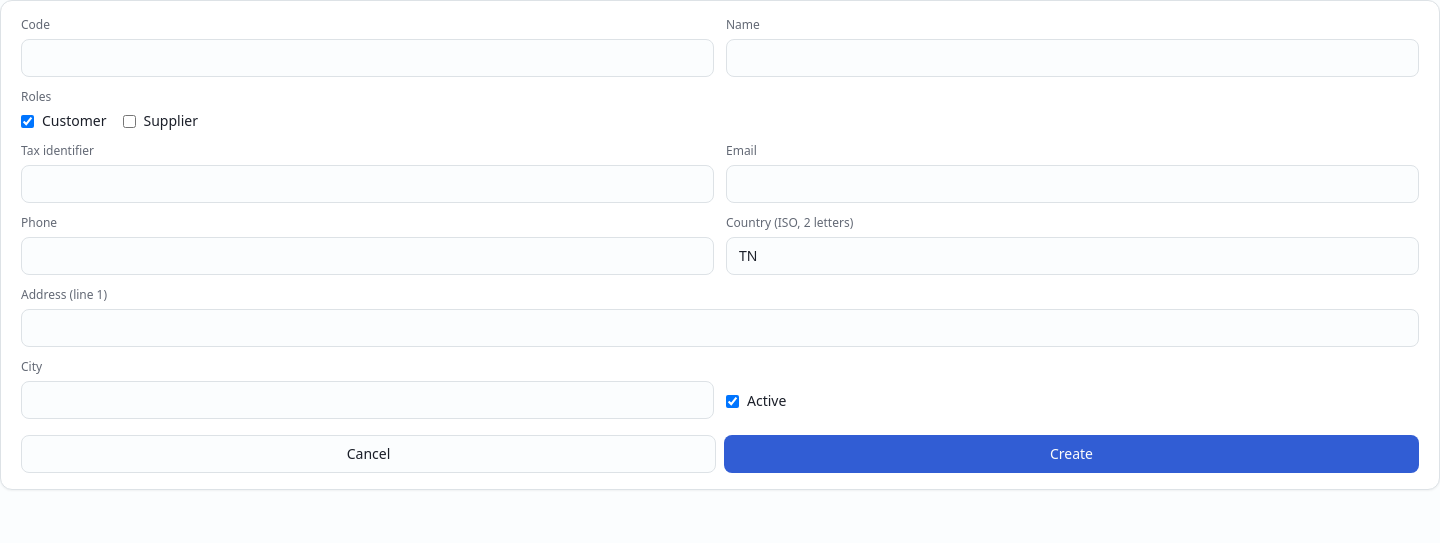
Test: PartyForm › keeps the draft and shows the refusal on conflict
This screenshot has width=1440, height=543.
Type "ACME" into the field labelled "Code" at (368, 58), box [21,39,714,77]
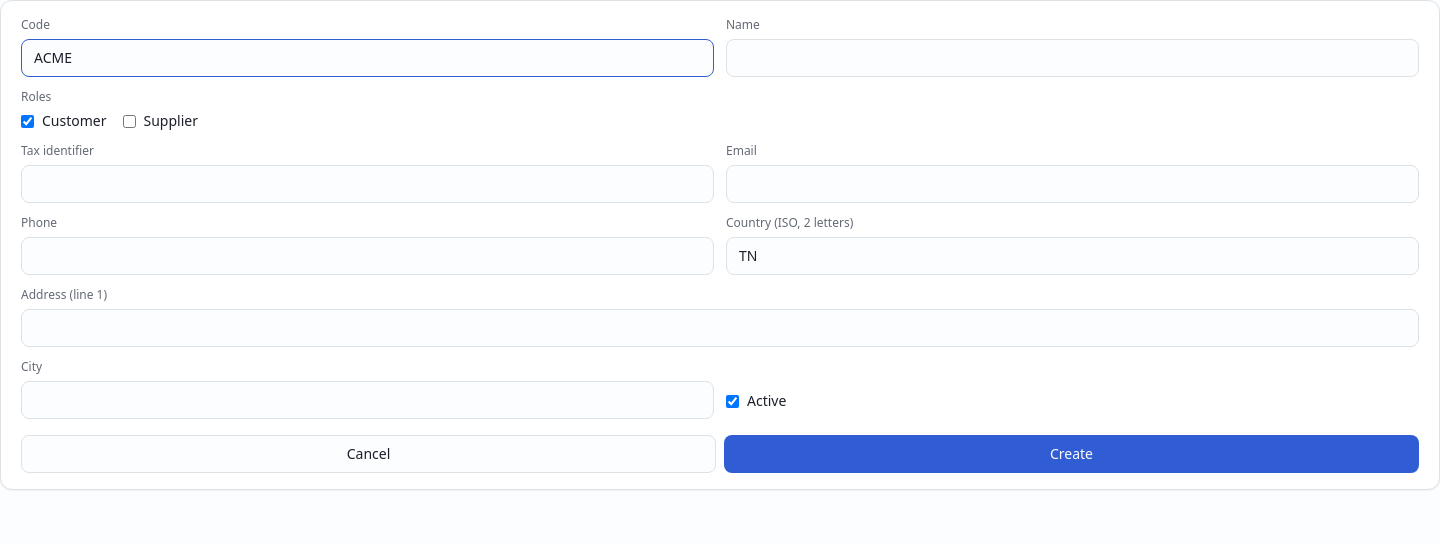
Type "Acme SARL" into the field labelled "Name" at (1072, 58), box [726,39,1419,77]
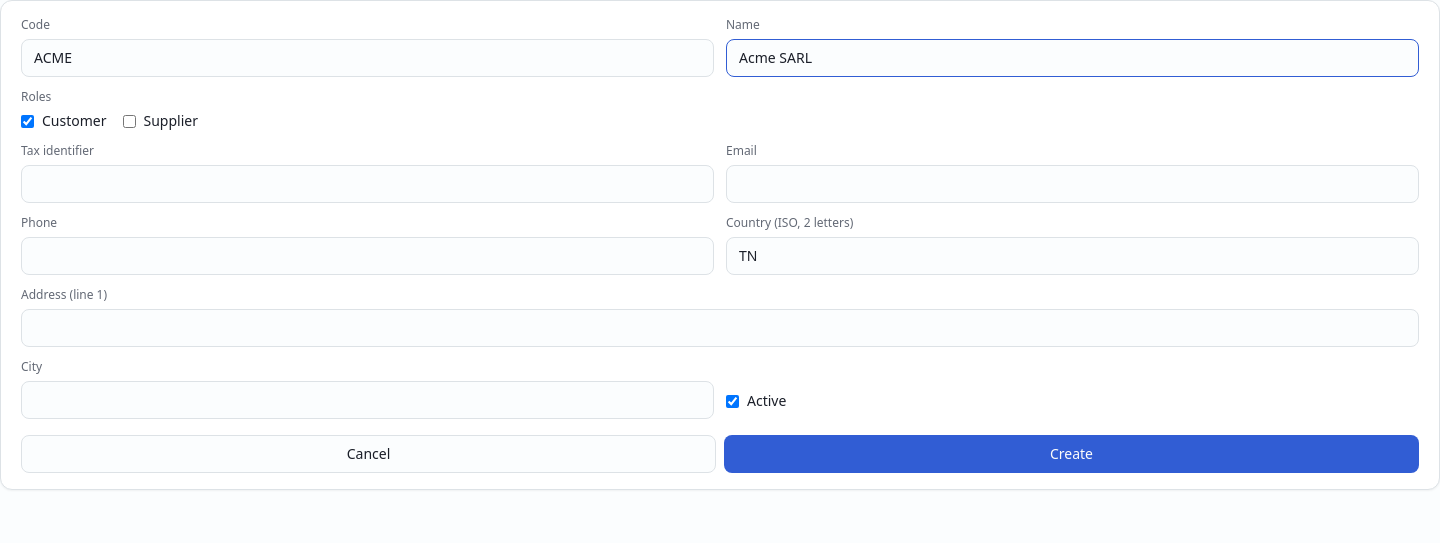
Click the button "Create" at (1072, 454), box [724,435,1419,473]
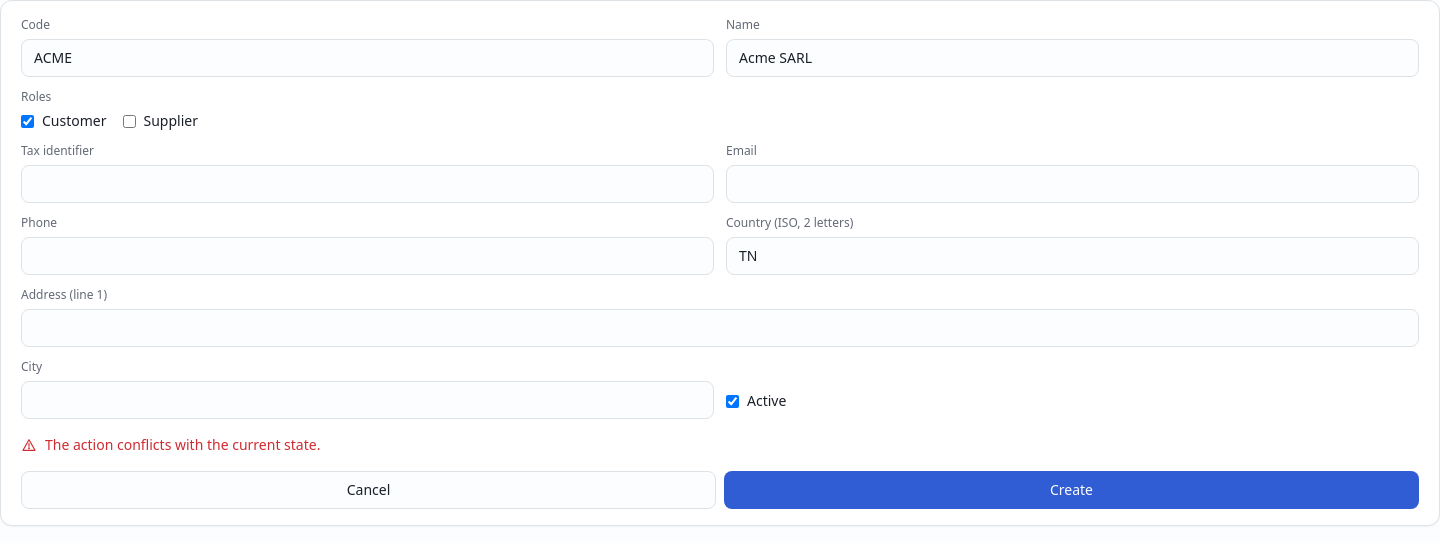
Result: the message reads "The action conflicts with the current state." at [45,435,320,454]
